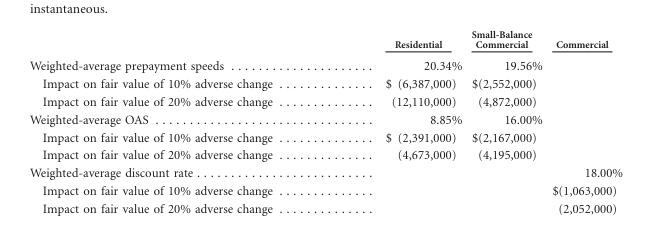table: (28, 28, 622, 215)
table column: (28, 28, 328, 215), (328, 28, 466, 215), (466, 28, 546, 215), (546, 28, 622, 215)
table column header: (28, 28, 622, 54)
table row: (28, 28, 622, 54), (28, 54, 622, 74), (28, 74, 622, 92), (28, 92, 622, 110), (28, 110, 622, 128), (28, 145, 622, 163), (28, 163, 622, 181), (28, 181, 622, 199), (28, 128, 622, 145), (28, 199, 622, 215)
